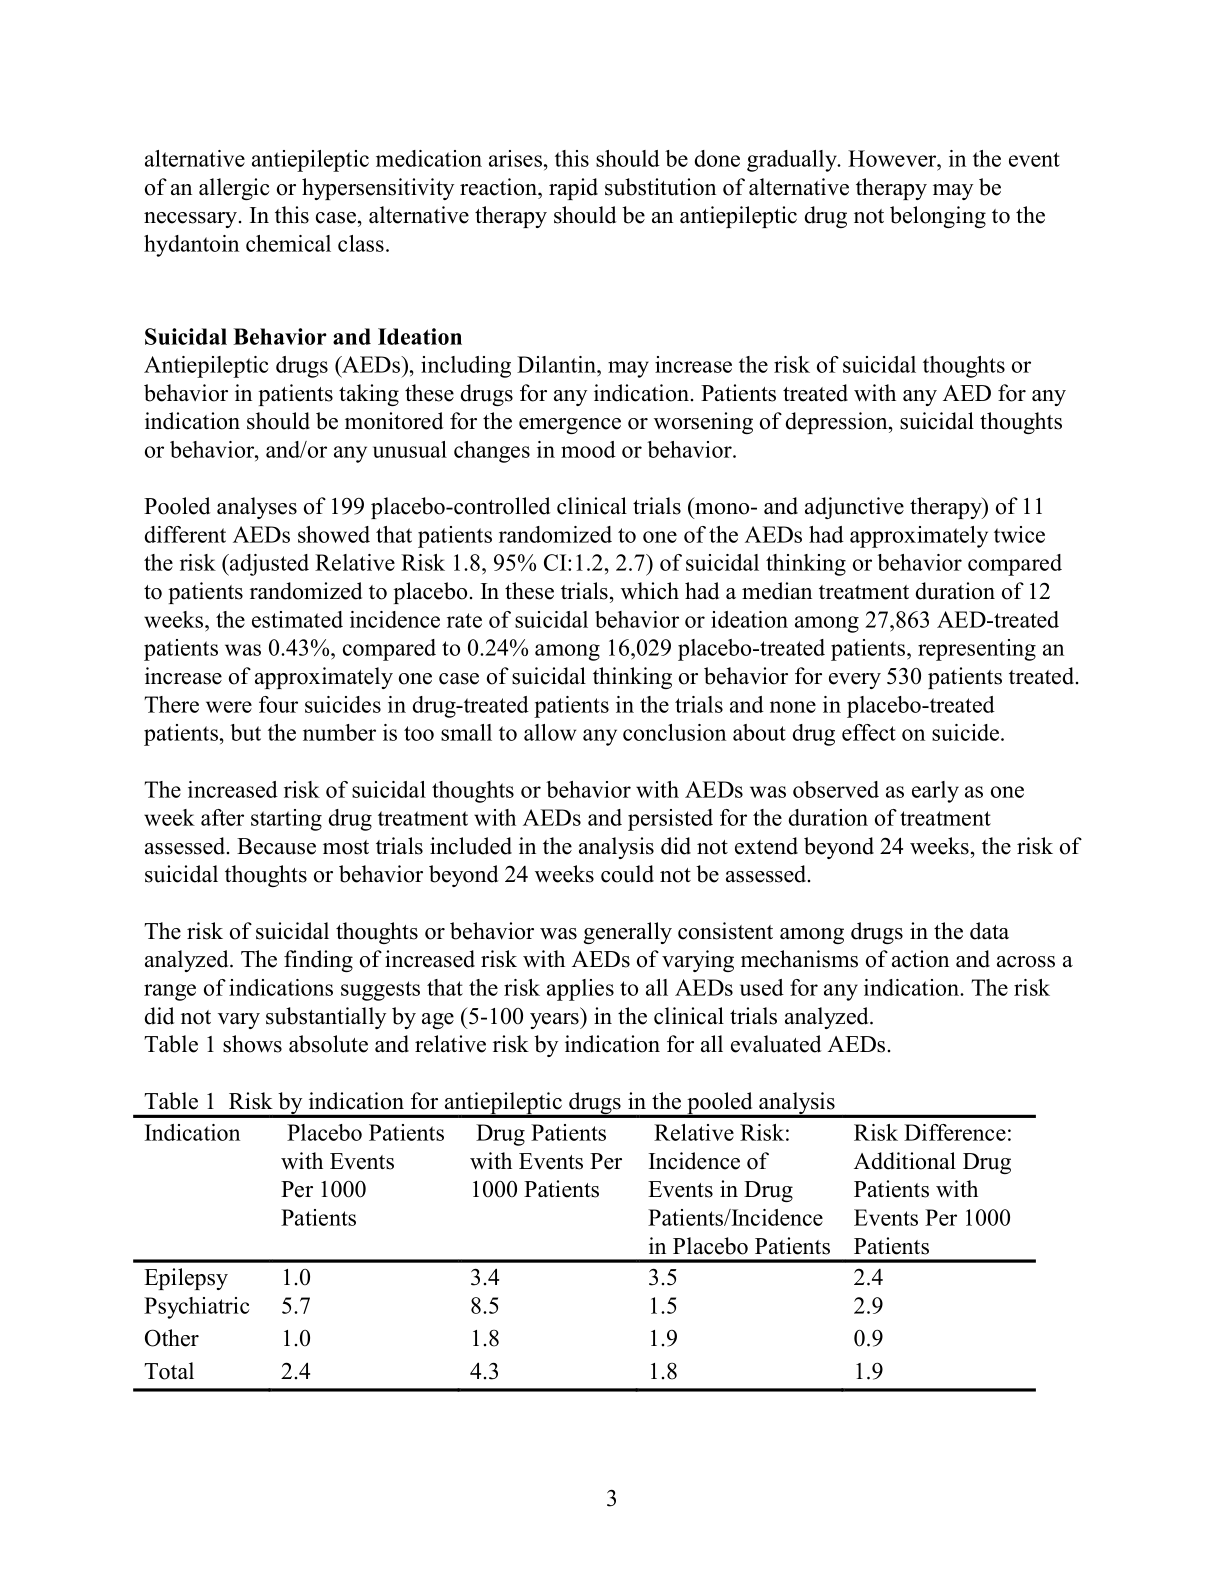partial_lined: (130, 1113, 1038, 1392)
